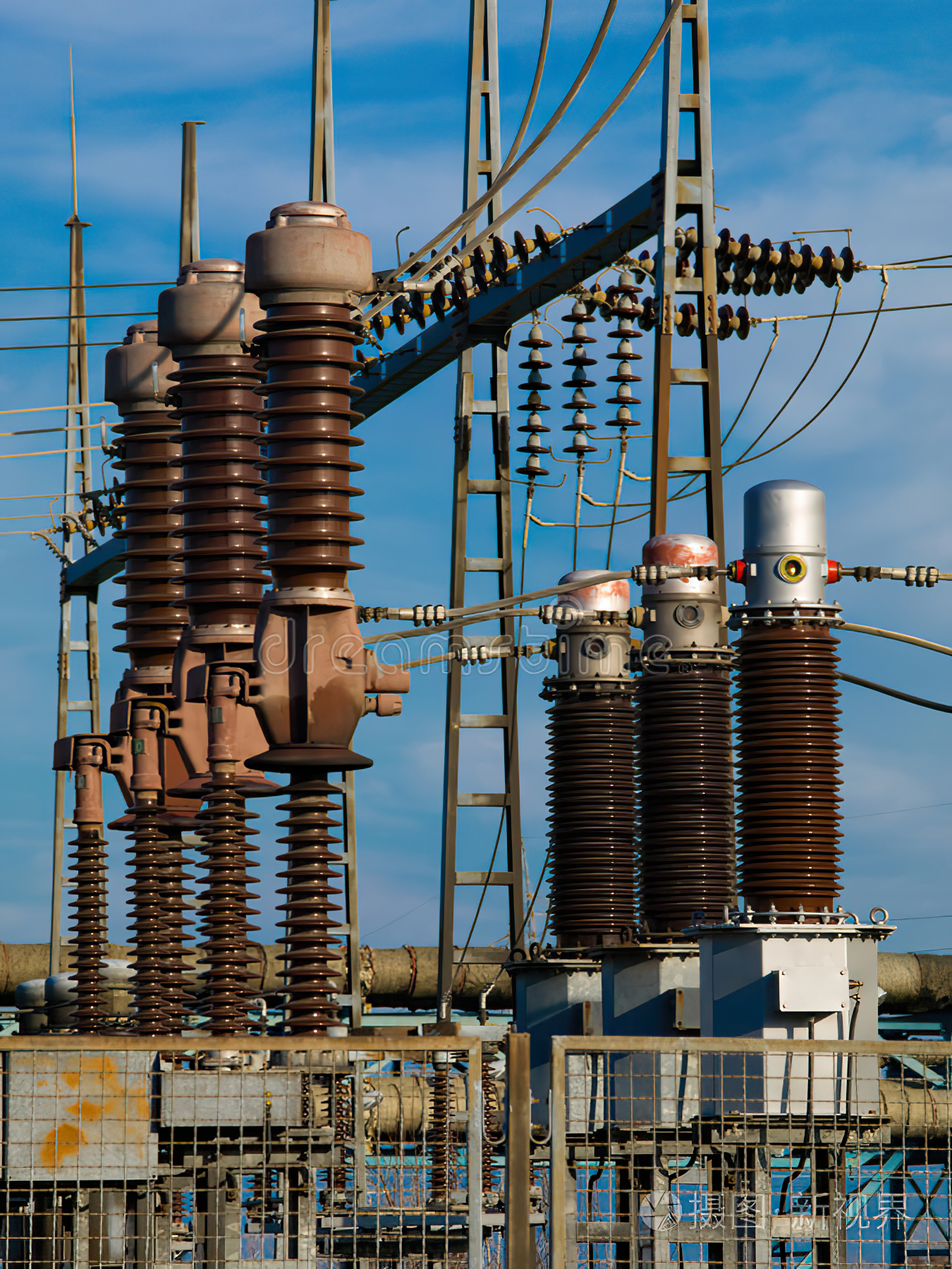insulator: (695, 223, 861, 279), (588, 284, 759, 336), (404, 228, 553, 283), (630, 253, 803, 300), (513, 332, 554, 485), (561, 306, 599, 463), (363, 286, 477, 337), (609, 281, 645, 438), (58, 508, 106, 541)
